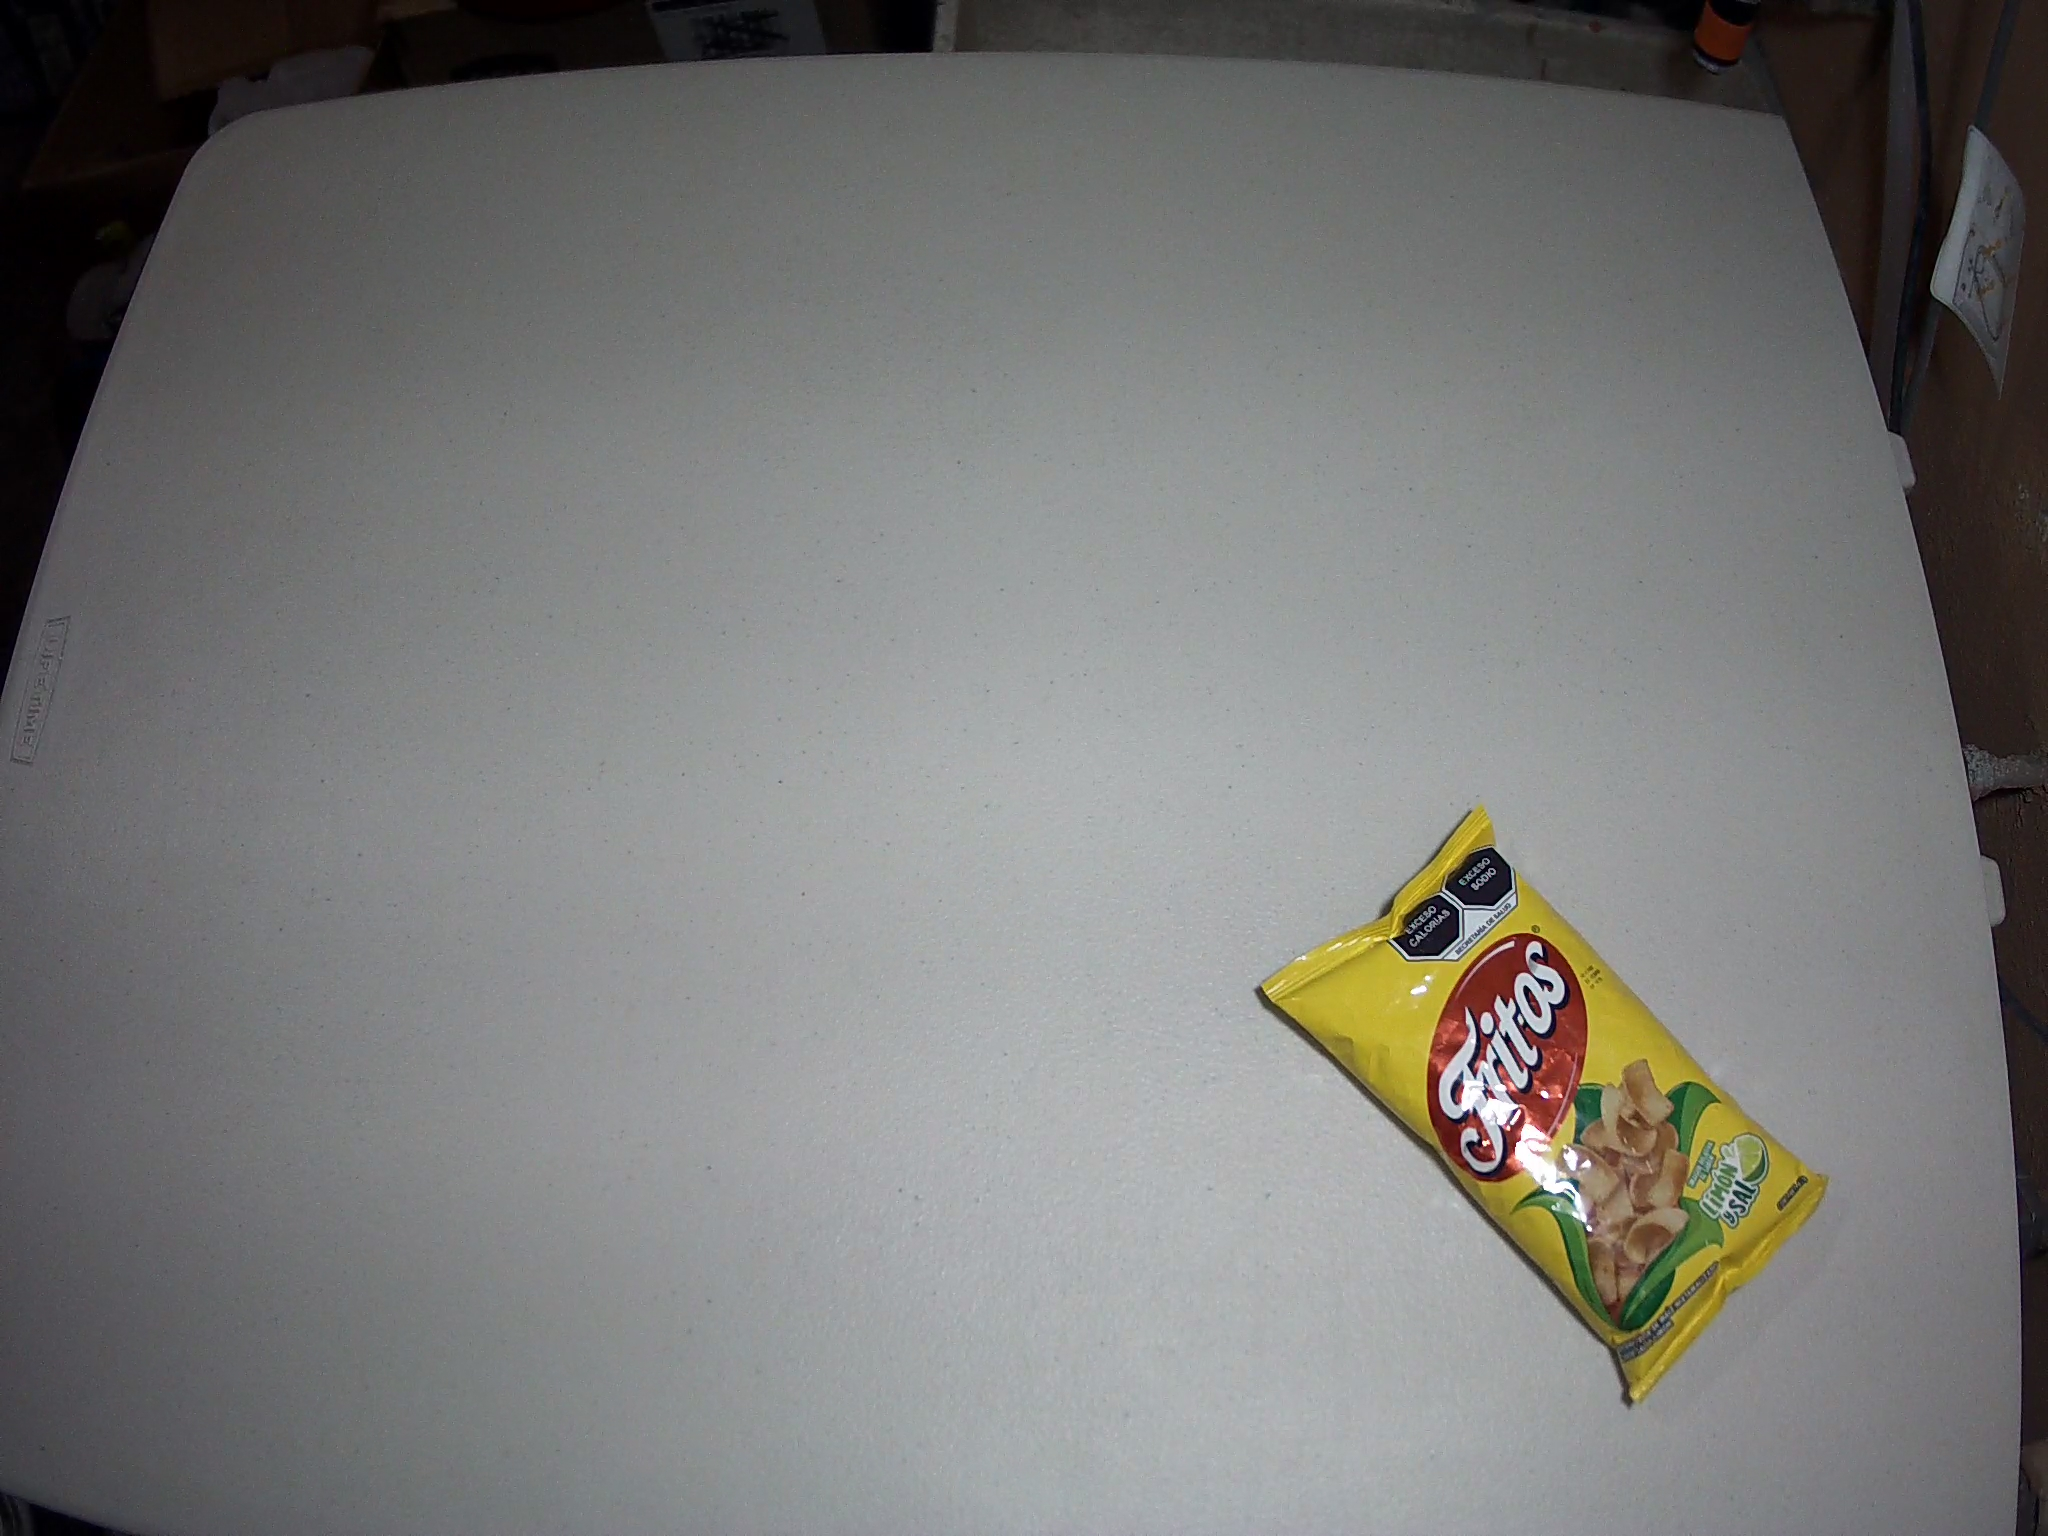FritosSalLimon_65_F: (1259, 802, 1830, 1404)
